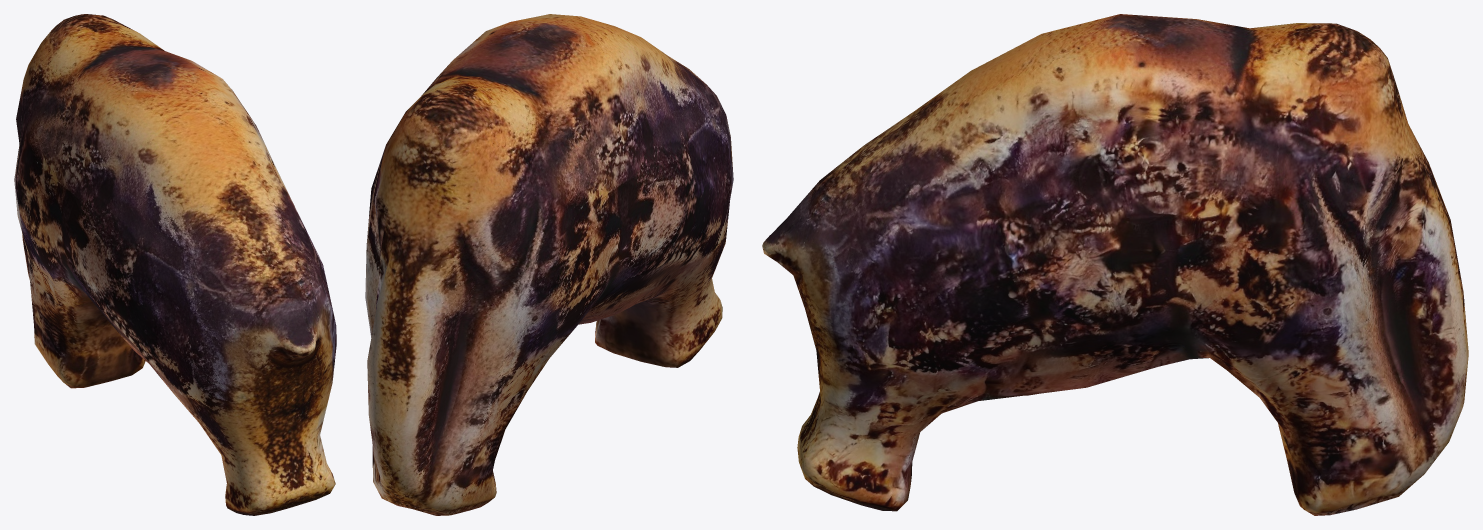
Rendered from Manute_Vogelherd.glb.
3 views of the same model, side by side, from view 1: azimuth 30°, elevation 25°; view 2: azimuth 150°, elevation 25°; view 3: azimuth 270°, elevation 25° (orthographic). The views are drawn at different scales.
Visible parts, largest first — view 1: tripo_node_9f9f1286; view 2: tripo_node_9f9f1286; view 3: tripo_node_9f9f1286.
Part boxes in pixels (box(x1,y1,x2,y2)): tripo_node_9f9f1286: box(14, 14, 336, 515); tripo_node_9f9f1286: box(365, 14, 733, 515); tripo_node_9f9f1286: box(762, 14, 1468, 515).
Size of the model in its own units: 0.3869 by 0.7238 by 0.993.
Materials: 1 (1 with a texture image).
